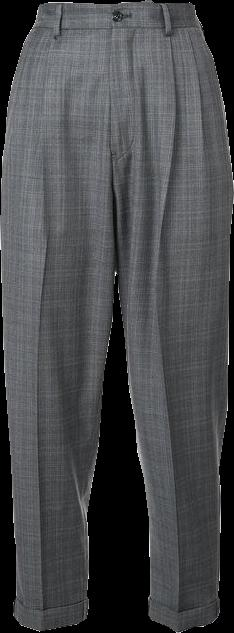Hemline: (12, 609, 87, 632), (147, 612, 223, 632)
Pantleg: (108, 1, 233, 631), (1, 2, 120, 630)
Waistline: (31, 21, 203, 33), (38, 0, 195, 10)
